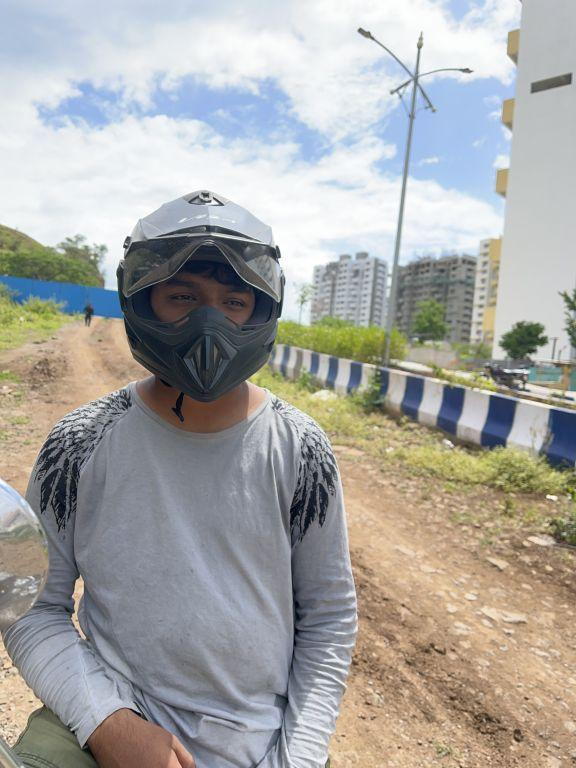helmet: (105, 177, 298, 427)
